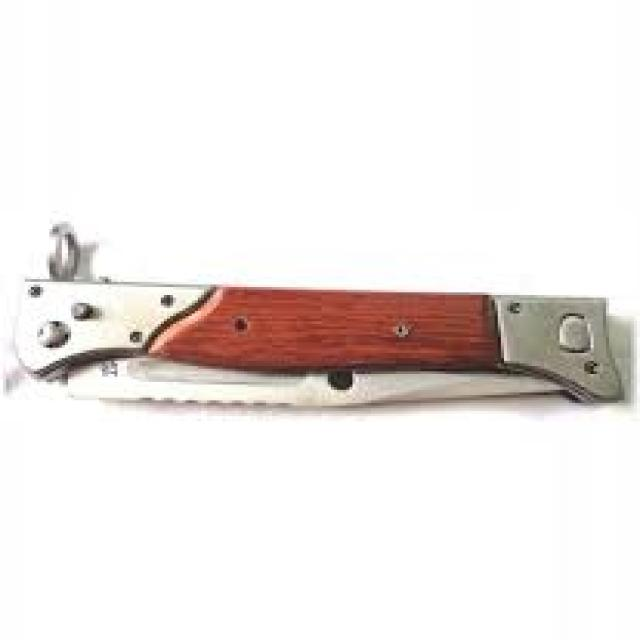knives: (6, 216, 631, 413)
